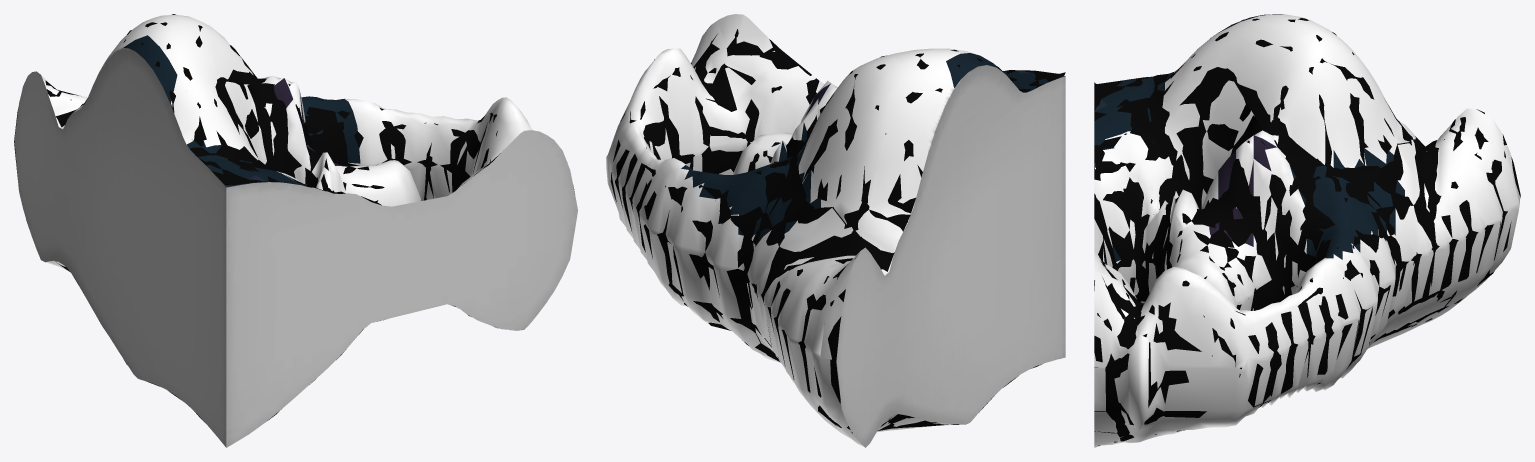
Rendered from newshn-7.glb.
3 views of the same model, side by side, from view 1: azimuth 30°, elevation 25°; view 2: azimuth 150°, elevation 25°; view 3: azimuth 270°, elevation 25° (orthographic). The views are drawn at different scales.
Visible parts, largest first — view 1: newshn-7, newshn-7_outline; view 2: newshn-7, newshn-7_outline; view 3: newshn-7, newshn-7_outline.
Boxes of the visible parts, left/top/right/bottom form: newshn-7: left=14, top=15, right=577, bottom=447; newshn-7_outline: left=14, top=14, right=574, bottom=422; newshn-7: left=606, top=14, right=1065, bottom=447; newshn-7_outline: left=610, top=29, right=1065, bottom=433; newshn-7: left=1094, top=14, right=1519, bottom=447; newshn-7_outline: left=1094, top=18, right=1520, bottom=445.
Size of the model in its own units: 1.98 by 1.79 by 2.
Materials: 12 (11 with a texture image).
